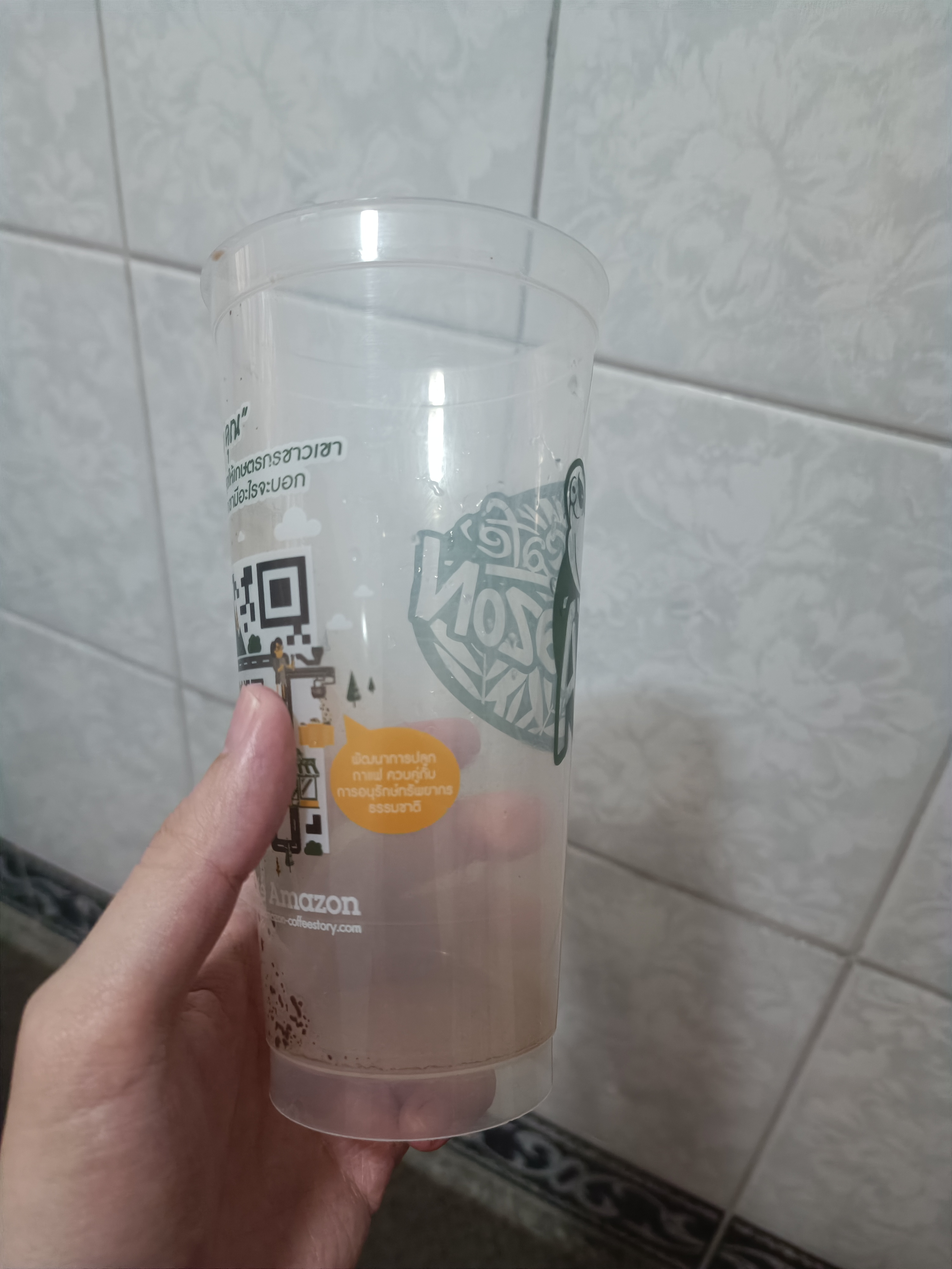plastic: (160, 163, 622, 1177)
